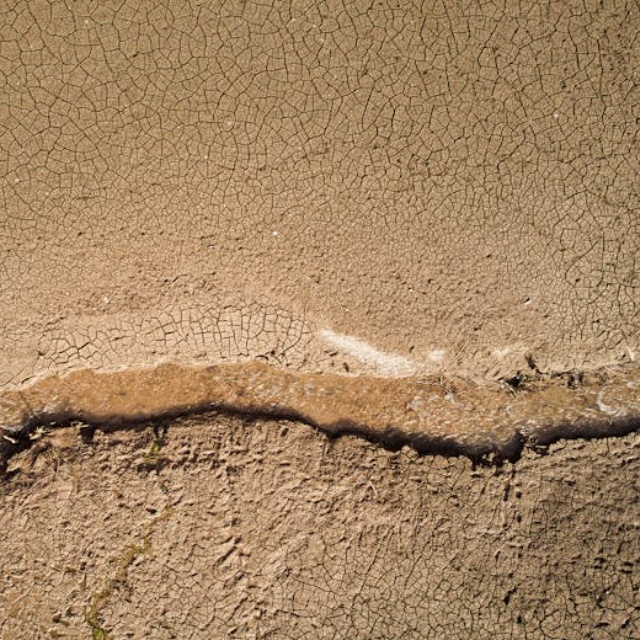细微裂纹: (0, 340, 640, 495), (0, 379, 640, 523)
